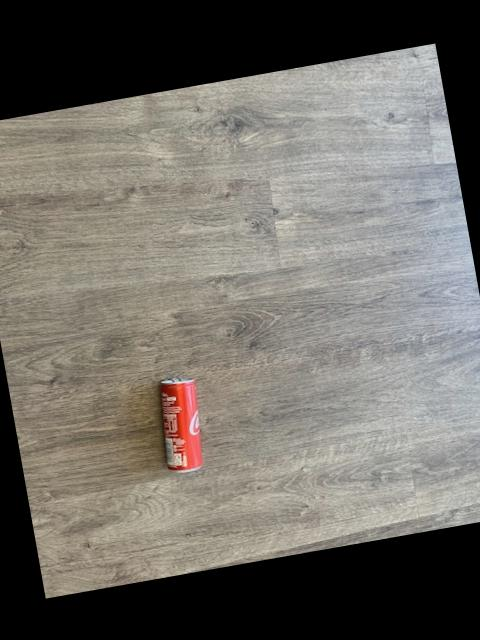metal: (159, 378, 200, 472)
